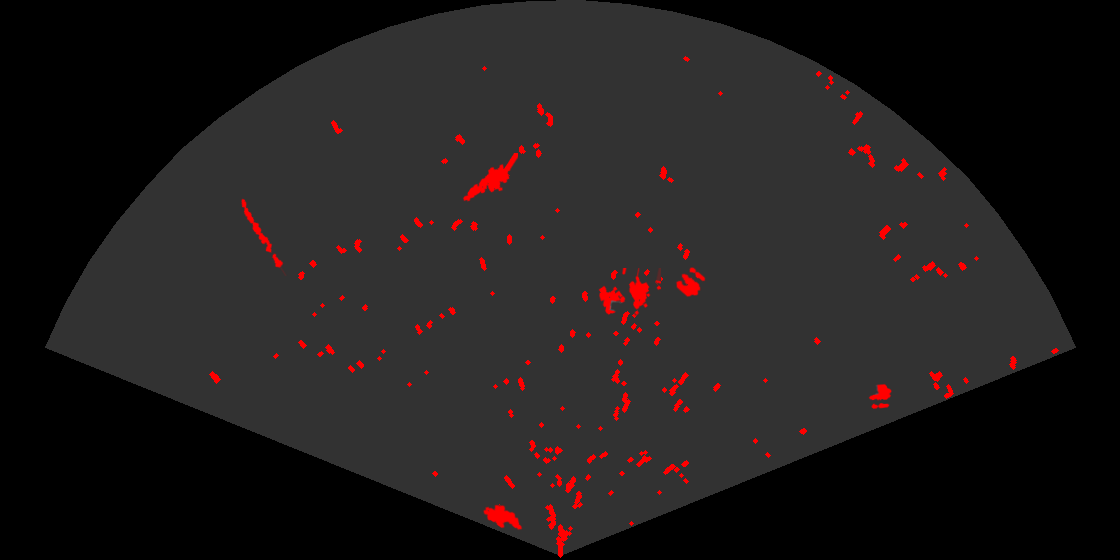AUV: (482, 503, 524, 532)
ball: (674, 266, 707, 299), (867, 382, 893, 410)
cage: (597, 268, 661, 317)
chain: (240, 197, 288, 276)
frogman: (461, 153, 518, 203)
